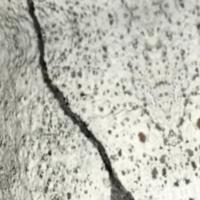crack: (15, 0, 151, 199)
